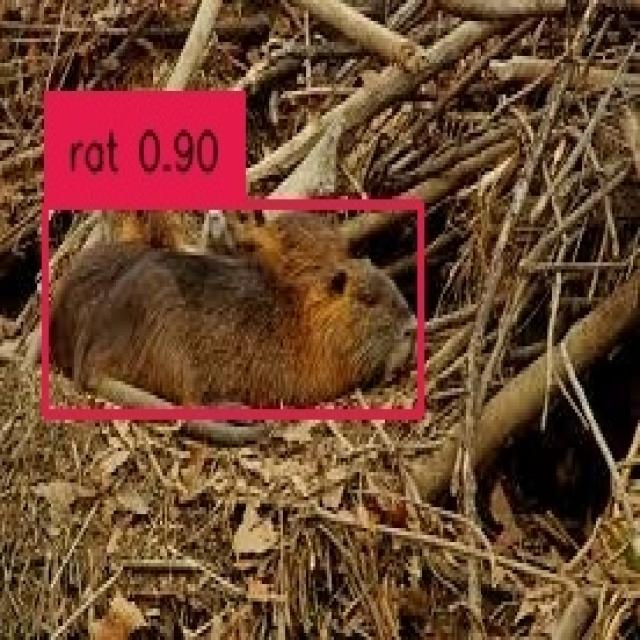rat: (42, 200, 417, 410)
